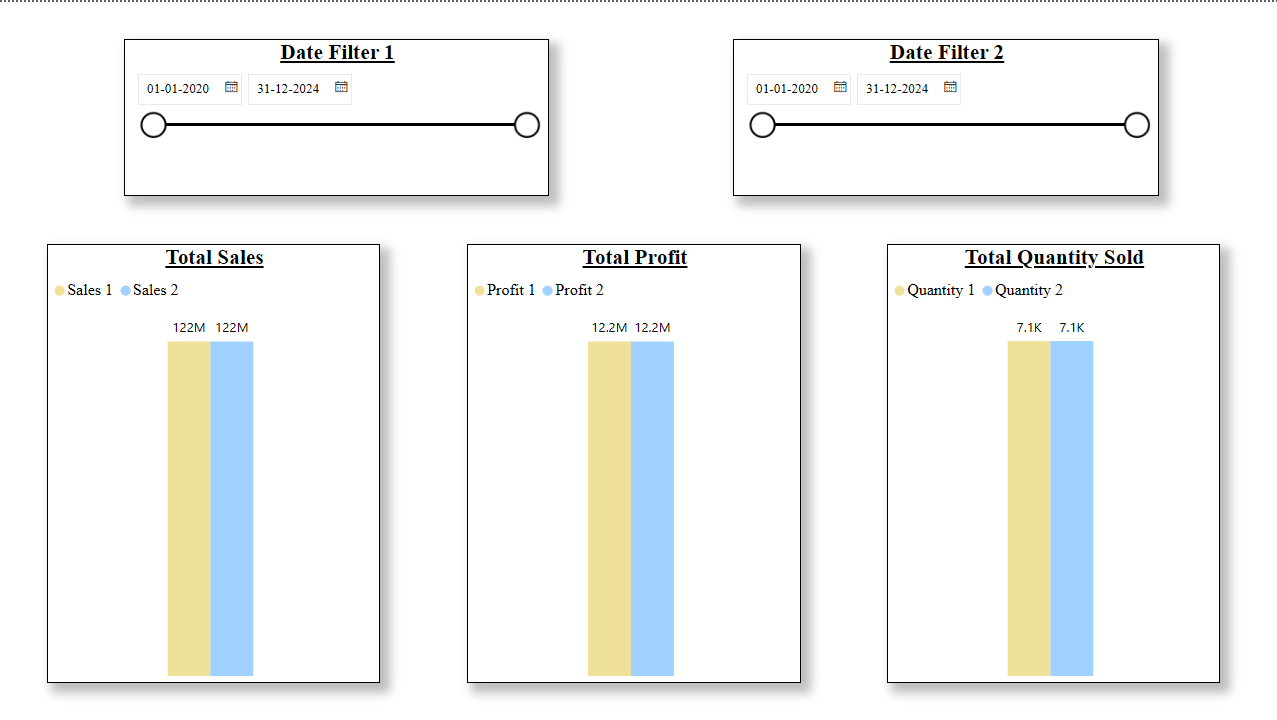

Layout of this report page (visuals, bound fields, positions):
{"tool":"powerbi","page":{"name":"Comparison Sales/Profit/Quantity","canvas":[1280,720],"ordinal":2},"visuals":[{"type":"slicer","title":"Date Filter 1","fields":{"Values":["Date Table 1.Date"]},"box":[125,37,425,157],"z":0},{"type":"slicer","title":"Date Filter 2","fields":{"Values":["Date Table 2.Date"]},"box":[734,37,426,157],"z":1000},{"type":"clusteredColumnChart","title":"Total Sales","fields":{"Y":["Sum(Fact Table.Net Sales)","Date Table 1.Sum of Net Sales"]},"box":[48,242,333,439],"z":2000},{"type":"clusteredColumnChart","title":"Total Profit","fields":{"Y":["Sum(Fact Table.Profit)","Date Table 1.Sum of Profit"]},"box":[467.5,242,334,439],"z":3000},{"type":"clusteredColumnChart","title":"Total Quantity Sold","fields":{"Y":["Sum(Fact Table.Units Sold)","Measure Table.Sum of Units Sold"]},"box":[888,242,333,439],"z":4000}]}

Visuals, with their boxes in screenshot pixels (x1, y1, x2, y2), scaled from the page's 1280x720 canvas onto the 1277x720 screenshot:
"Date Filter 1" slicer: left=125, top=37, right=549, bottom=194
"Date Filter 2" slicer: left=732, top=37, right=1157, bottom=194
"Total Sales" clusteredColumnChart: left=48, top=242, right=380, bottom=681
"Total Profit" clusteredColumnChart: left=466, top=242, right=800, bottom=681
"Total Quantity Sold" clusteredColumnChart: left=886, top=242, right=1218, bottom=681
